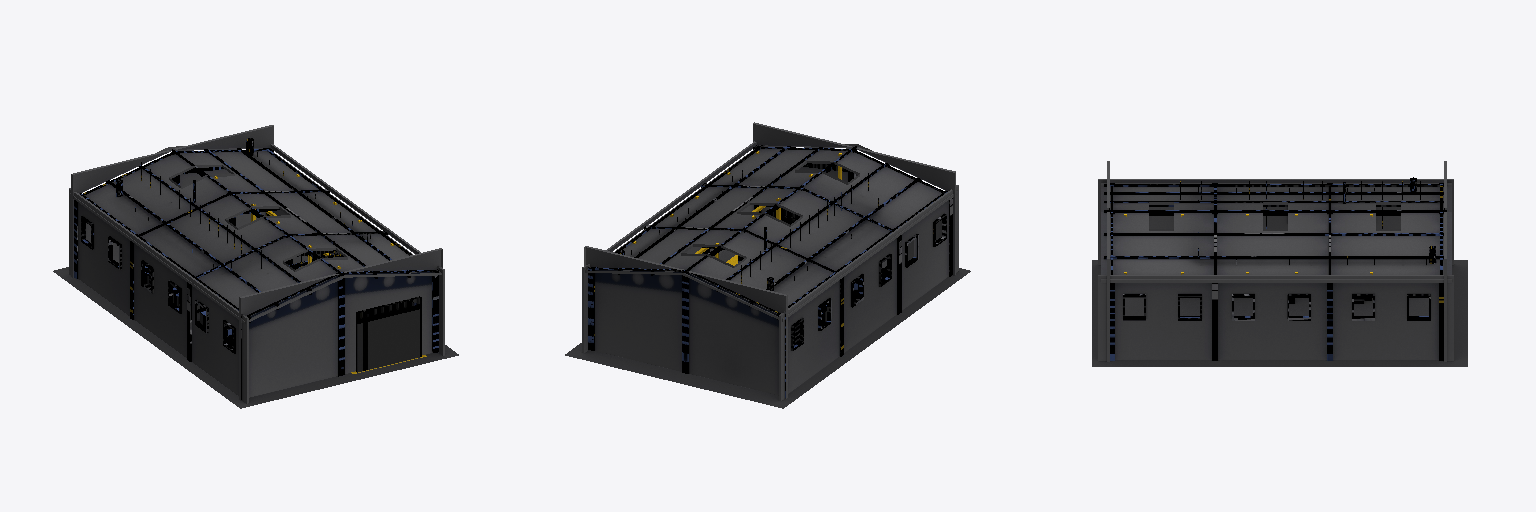
3 renders of one model, left to right at view 1: azimuth 30°, elevation 25°; view 2: azimuth 150°, elevation 25°; view 3: azimuth 270°, elevation 25°, orthographic.
Parts seen in each view (by area): view 1: Box045, Box041, Box047, Plane001; view 2: Box045, Box041, Plane001; view 3: Box045, Box041, Plane001.
Part boxes in pixels (left/top/right/bottom): Box045: left=69, top=125, right=444, bottom=403; Box041: left=74, top=138, right=438, bottom=399; Box047: left=356, top=296, right=421, bottom=372; Plane001: left=53, top=256, right=458, bottom=408; Box045: left=582, top=122, right=958, bottom=400; Box041: left=588, top=145, right=952, bottom=397; Plane001: left=565, top=250, right=970, bottom=408; Box045: left=1098, top=161, right=1453, bottom=361; Box041: left=1104, top=177, right=1446, bottom=360; Plane001: left=1092, top=260, right=1467, bottom=366.
Size of the model in its own units: 66.74 by 34.35 by 99.21.
Materials: 5 (5 with a texture image).